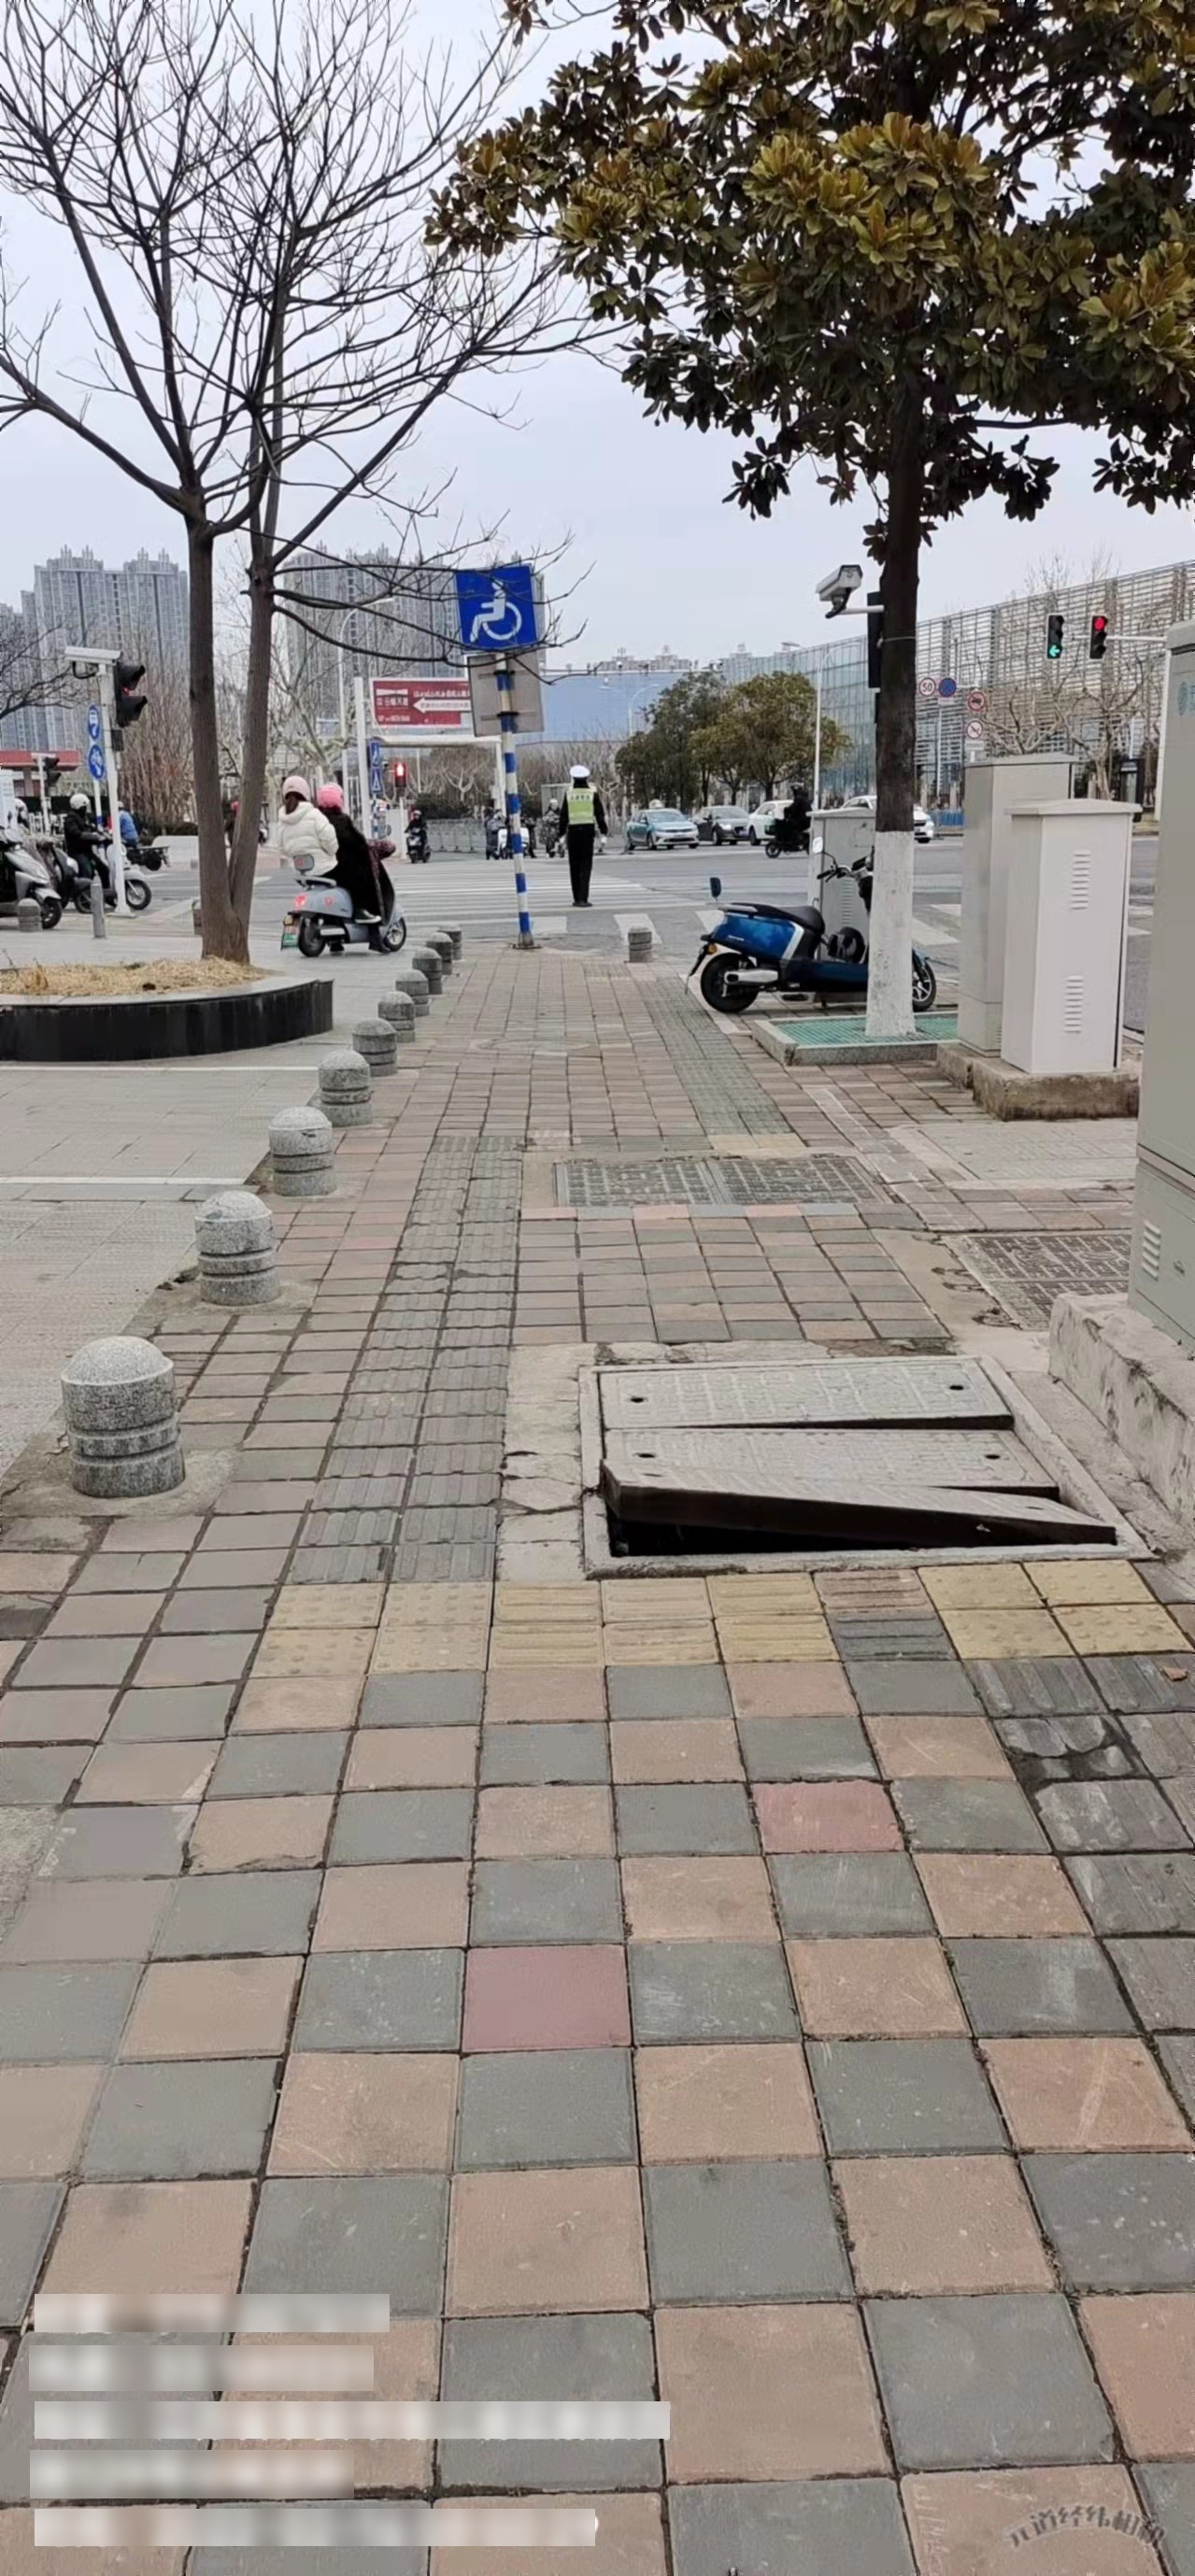good: (539, 1142, 912, 1224)
uncovered: (575, 1337, 1165, 1575)
